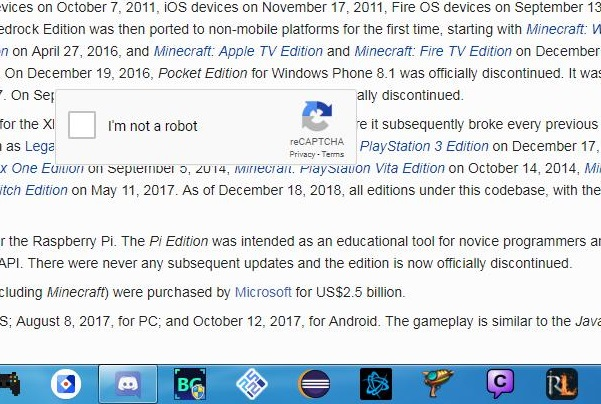captcha: (68, 111, 199, 139)
